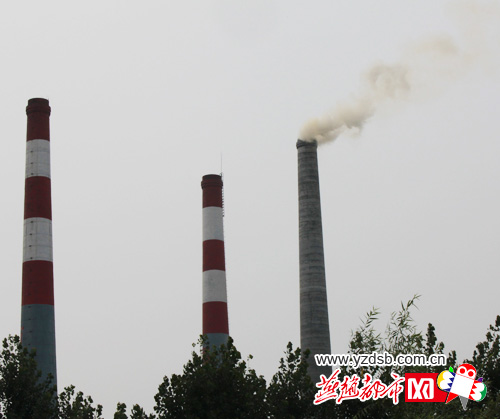dust: (285, 55, 422, 152)
